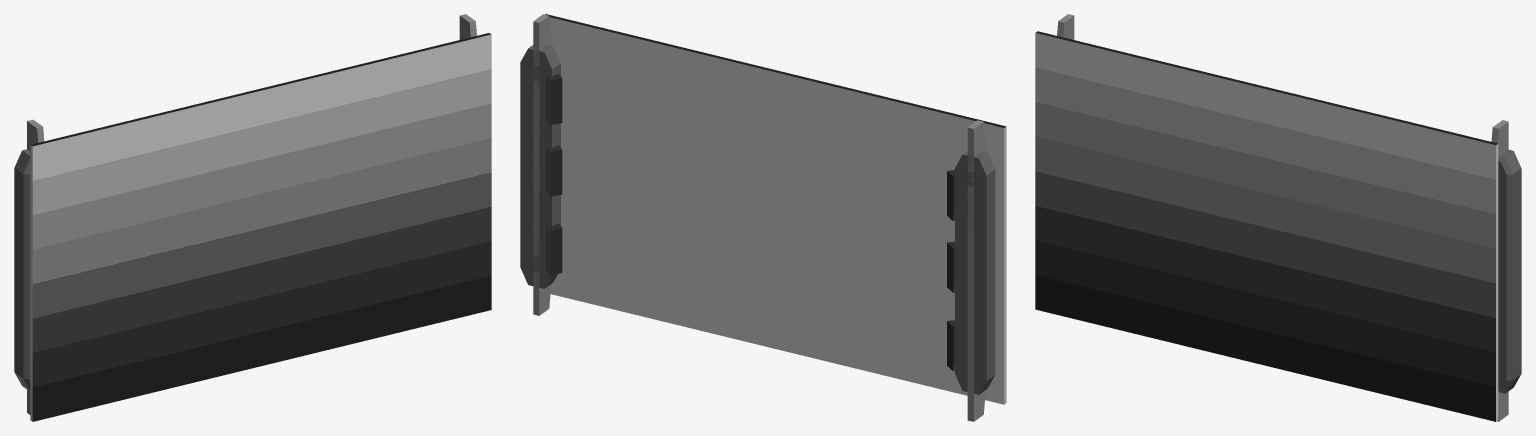
3 renders of one model, left to right at view 1: azimuth 30°, elevation 25°; view 2: azimuth 150°, elevation 25°; view 3: azimuth 330°, elevation 25°, orthographic.
Visible parts, largest first — view 1: tv_B_screen, tv_B; view 2: tv_B_screen, tv_B; view 3: tv_B_screen, tv_B.
Boxes of the visible parts, x1,y1,x2,y2 form: tv_B_screen: (30,33,491,421); tv_B: (14,14,476,414); tv_B_screen: (545,14,1006,404); tv_B: (520,14,995,421); tv_B_screen: (1035,31,1498,421); tv_B: (1057,14,1521,421).
Bounding box in the file's own units: 62.81 × 37.67 × 5.59.
